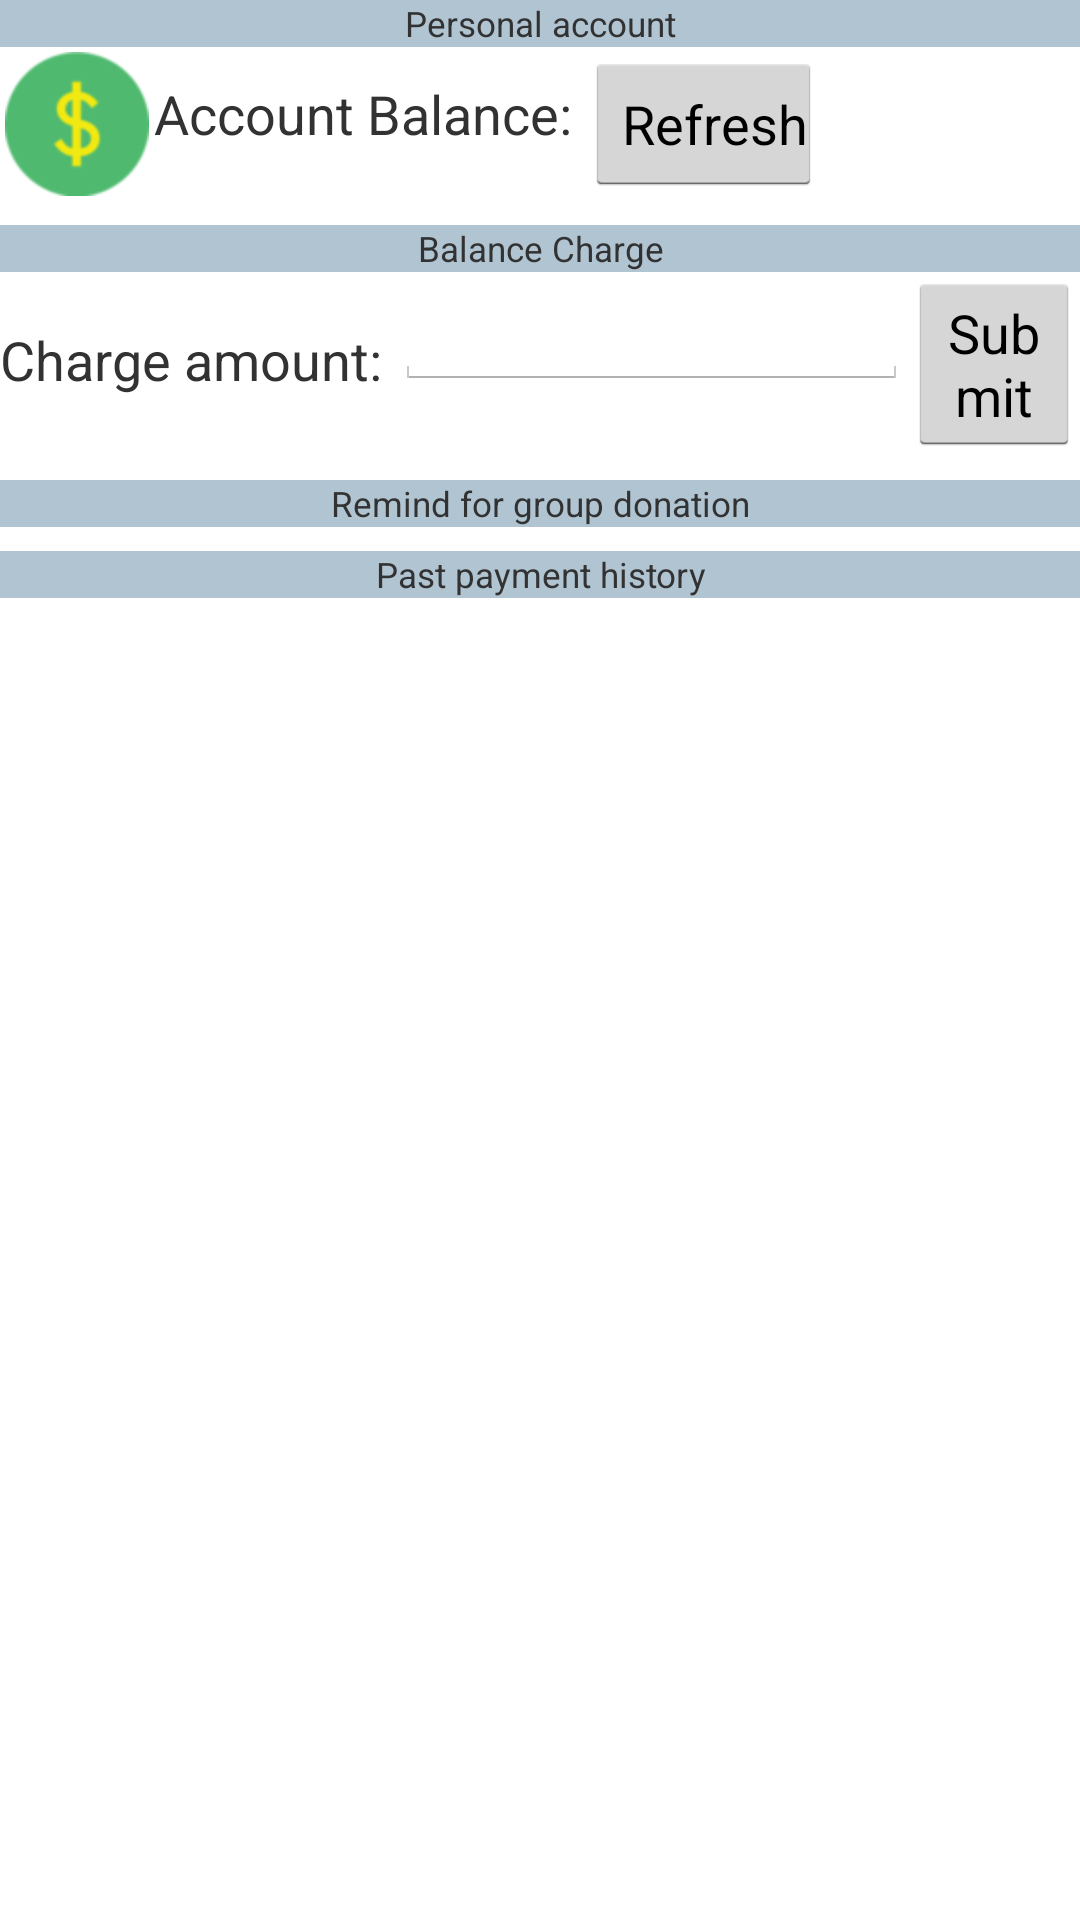

Icons on this 1080px x 1920px Android screen, each with the point to tap as (x,y):
money: (77,124)
